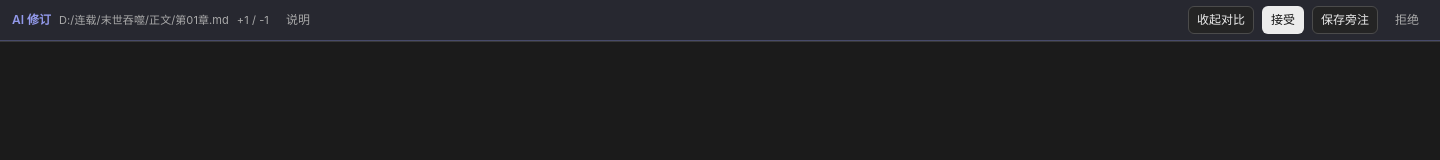
宿主漂移拒写一路带着类型到补丁面板：不提示可重试；换成写盘失败才提示
Click the button with test id "suggestion-accept" at (1283, 20), box 1262,6 -> 1304,34
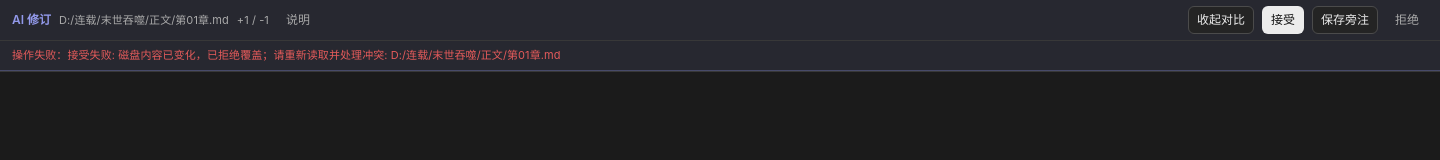
Click the button with test id "suggestion-accept" at (1283, 20), box 1262,6 -> 1304,34
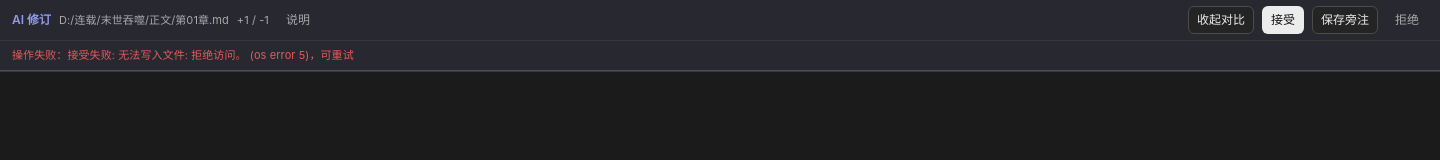
Expected: the message with test id "patch-action-status" reads "操作失败：接受失败: 无法写入文件: 拒绝访问。 (os error 5)，可重试", 12,48 -> 354,62
